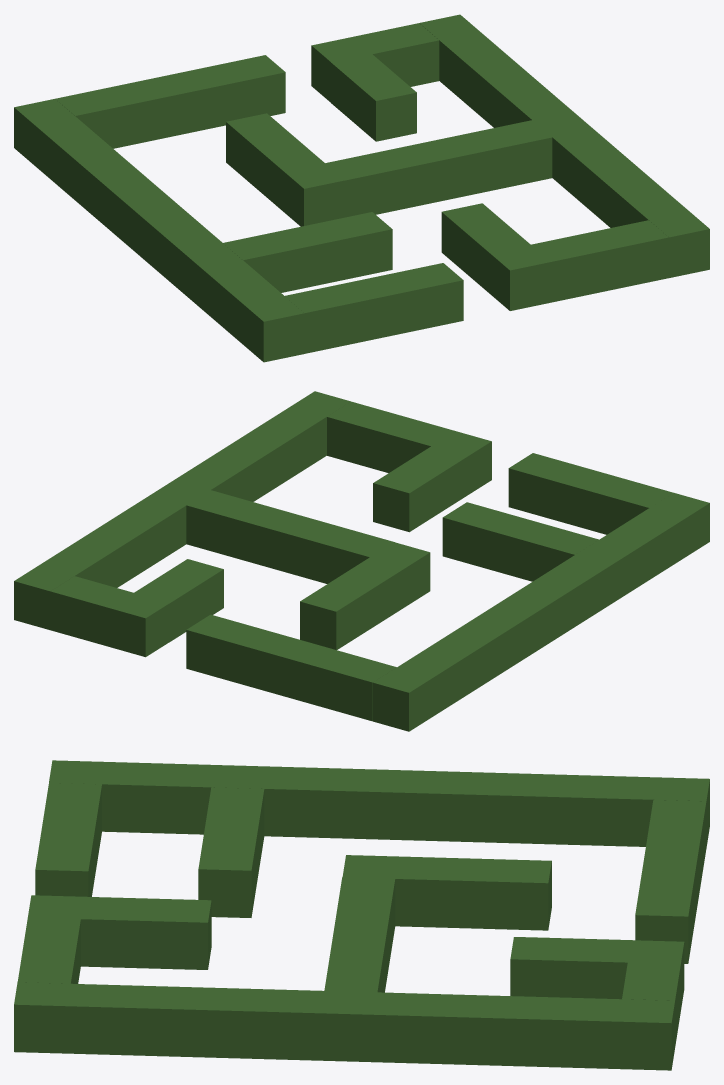
Rendered from maze.fbx.
The picture shows the model from 3 angles, top to bottom: view 1: azimuth 30°, elevation 25°; view 2: azimuth 150°, elevation 25°; view 3: azimuth 270°, elevation 25°; orthographic projection. The views are drawn at different scales.
Parts seen in each view (by area): view 1: mazeWall_horizontal_2_geo, mazeWall_horizontal_1_geo, mazeWall_vertical_4_geo, mazeWall_vertical_5_geo, mazeWall_vertical_1_geo, mazeWall_vertical_2_geo, mazeWall_vertical_3_geo, mazeWall_horizontal_4_geo, mazeWall_horizontal_5_geo, mazeWall_vertical_6_geo, mazeWall_horizontal_3_geo; view 2: mazeWall_horizontal_2_geo, mazeWall_horizontal_1_geo, mazeWall_vertical_5_geo, mazeWall_vertical_4_geo, mazeWall_horizontal_4_geo, mazeWall_vertical_2_geo, mazeWall_vertical_3_geo, mazeWall_vertical_1_geo, mazeWall_vertical_6_geo, mazeWall_horizontal_3_geo, mazeWall_horizontal_5_geo; view 3: mazeWall_horizontal_1_geo, mazeWall_horizontal_2_geo, mazeWall_horizontal_4_geo, mazeWall_horizontal_3_geo, mazeWall_vertical_5_geo, mazeWall_vertical_3_geo, mazeWall_horizontal_5_geo, mazeWall_vertical_4_geo, mazeWall_vertical_2_geo, mazeWall_vertical_1_geo, mazeWall_vertical_6_geo.
Part boxes in pixels (box(x1,y1,x2,y2)): mazeWall_horizontal_2_geo: box(14, 99, 304, 362); mazeWall_horizontal_1_geo: box(419, 14, 709, 277); mazeWall_vertical_4_geo: box(325, 120, 553, 217); mazeWall_vertical_5_geo: box(55, 55, 285, 148); mazeWall_vertical_1_geo: box(490, 220, 668, 310); mazeWall_vertical_2_geo: box(285, 263, 463, 353); mazeWall_vertical_3_geo: box(223, 212, 392, 292); mazeWall_horizontal_4_geo: box(226, 113, 344, 226); mazeWall_horizontal_5_geo: box(331, 53, 416, 141); mazeWall_vertical_6_geo: box(311, 23, 439, 102); mazeWall_horizontal_3_geo: box(441, 203, 530, 293); mazeWall_horizontal_2_geo: box(373, 492, 709, 731); mazeWall_horizontal_1_geo: box(14, 391, 350, 629); mazeWall_vertical_5_geo: box(186, 614, 396, 721); mazeWall_vertical_4_geo: box(184, 490, 394, 583); mazeWall_horizontal_4_geo: box(300, 542, 430, 649); mazeWall_vertical_2_geo: box(508, 453, 672, 534); mazeWall_vertical_3_geo: box(442, 502, 598, 581); mazeWall_vertical_1_geo: box(327, 401, 491, 494); mazeWall_vertical_6_geo: box(50, 576, 169, 657); mazeWall_horizontal_3_geo: box(373, 446, 468, 532); mazeWall_horizontal_5_geo: box(133, 559, 223, 642); mazeWall_horizontal_1_geo: box(14, 982, 674, 1070); mazeWall_horizontal_2_geo: box(49, 760, 709, 848); mazeWall_horizontal_4_geo: box(342, 855, 551, 930); mazeWall_horizontal_3_geo: box(79, 896, 211, 969); mazeWall_vertical_5_geo: box(635, 800, 706, 963); mazeWall_vertical_3_geo: box(198, 787, 264, 917); mazeWall_horizontal_5_geo: box(510, 937, 632, 999); mazeWall_vertical_4_geo: box(324, 877, 395, 993); mazeWall_vertical_2_geo: box(35, 783, 101, 896); mazeWall_vertical_1_geo: box(17, 895, 84, 983); mazeWall_vertical_6_geo: box(622, 940, 684, 1047).
Size of the model in its own units: 29.48 by 2.48 by 32.99.
